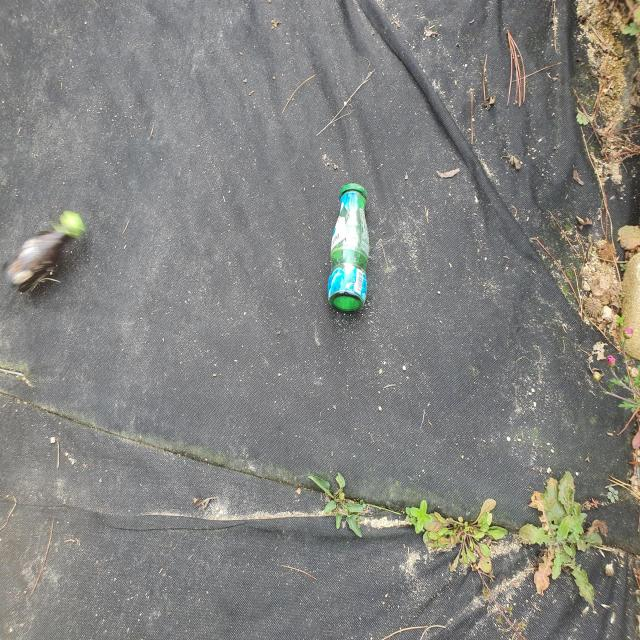glass: (5, 210, 85, 291), (328, 183, 369, 312)
